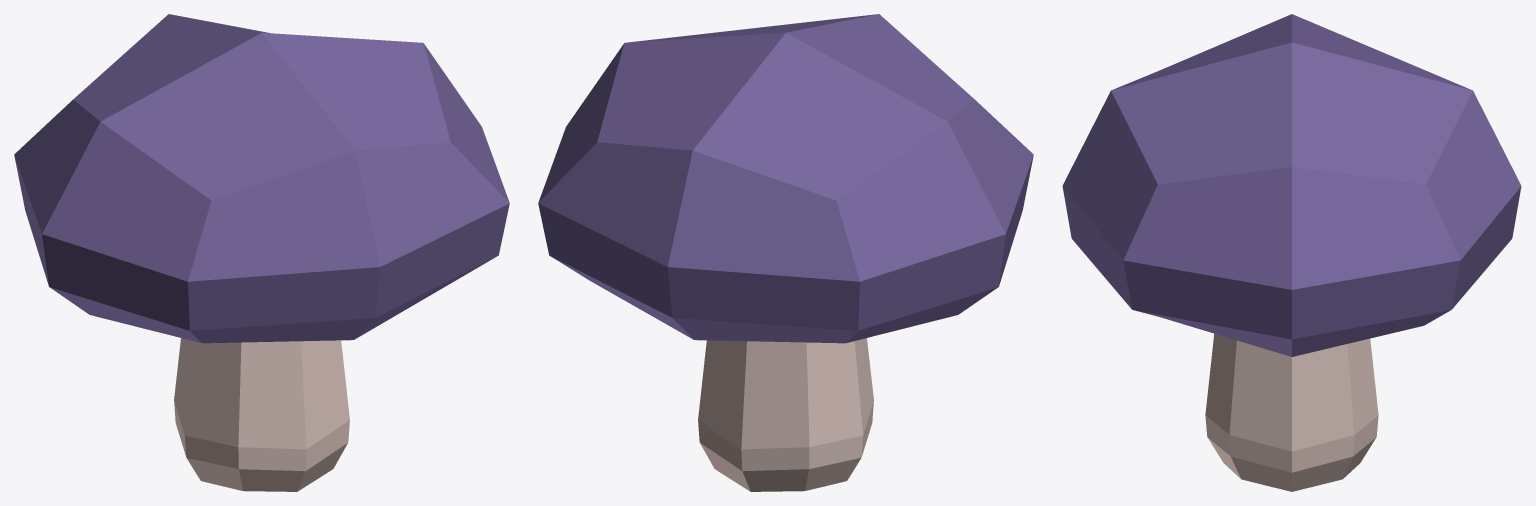
File: MUSH_ROUNDED_PURP.fbx
3 renders of one model, left to right at view 1: azimuth 30°, elevation 25°; view 2: azimuth 150°, elevation 25°; view 3: azimuth 270°, elevation 25°, orthographic. The views are drawn at different scales.
Visible parts, largest first — view 1: pCube15, pCube16; view 2: pCube15, pCube16; view 3: pCube15, pCube16.
Boxes of the visible parts, x1=… form: pCube15: x1=14, y1=14, x2=509, y2=343; pCube16: x1=174, y1=338, x2=349, y2=491; pCube15: x1=538, y1=14, x2=1033, y2=343; pCube16: x1=698, y1=338, x2=873, y2=491; pCube15: x1=1062, y1=14, x2=1521, y2=356; pCube16: x1=1205, y1=333, x2=1378, y2=491.
Bounding box in the file's own units: 14.03 × 13.44 × 13.06.
